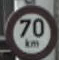Speed limit: (5, 5, 52, 52)
